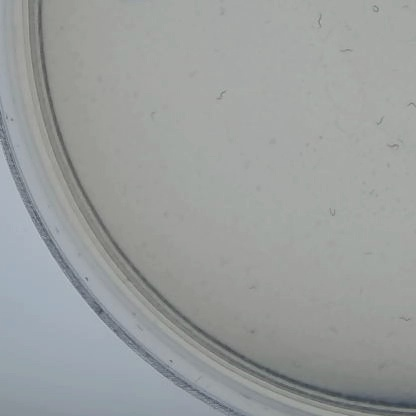worm: (360, 1, 384, 22), (370, 109, 388, 136), (311, 8, 327, 36), (332, 44, 359, 59), (316, 207, 343, 222), (209, 87, 231, 104), (380, 139, 402, 155), (394, 313, 416, 328), (402, 98, 416, 118), (145, 105, 161, 122), (362, 244, 379, 259)
